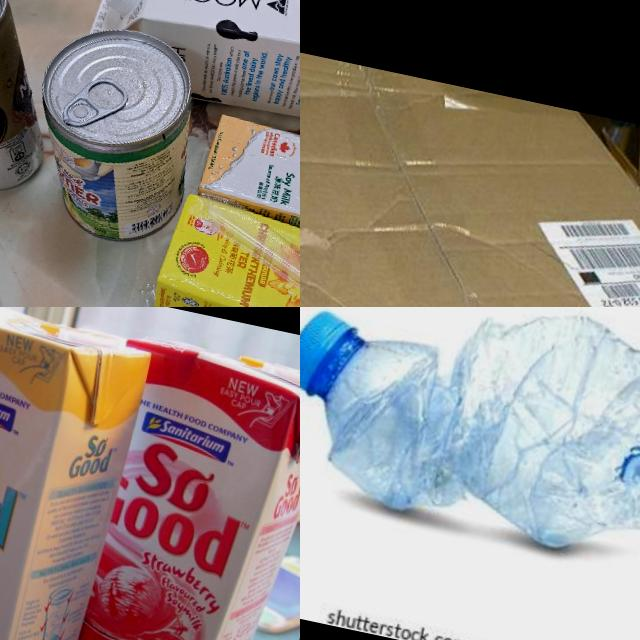aba de lata: (59, 70, 132, 138)
caixinha: (39, 333, 300, 640), (0, 307, 153, 640), (79, 0, 300, 154), (145, 190, 300, 307), (193, 113, 300, 267)
garrafa plástica: (302, 307, 640, 581)
lata: (12, 14, 214, 252), (0, 0, 79, 200)
papelão: (300, 10, 640, 307)
tampa plástica: (300, 307, 361, 403), (102, 0, 143, 16)
